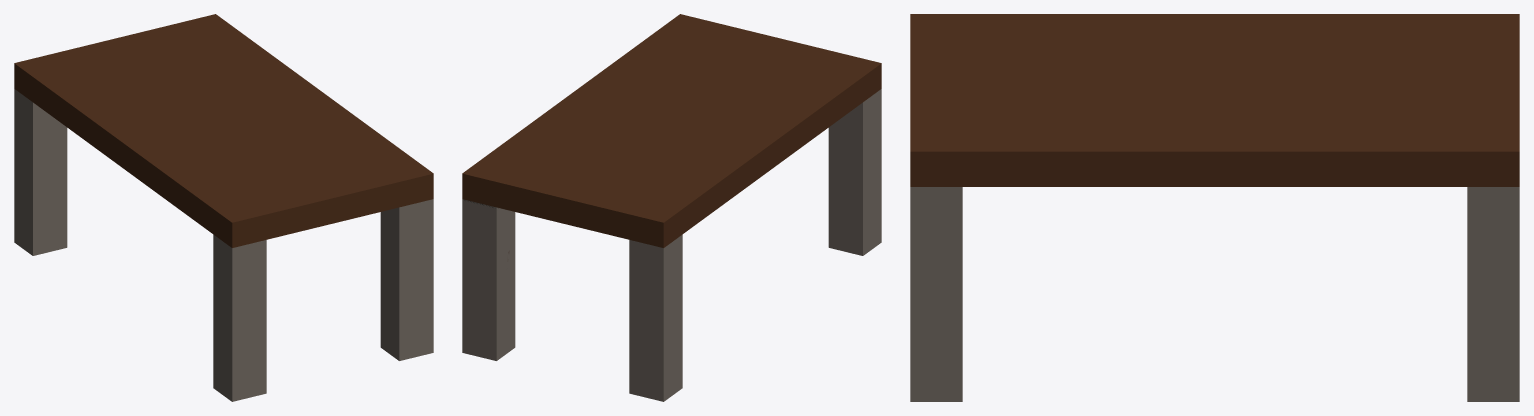
The model's file is desk.fbx.
3 views of the same model, side by side, from view 1: azimuth 30°, elevation 25°; view 2: azimuth 150°, elevation 25°; view 3: azimuth 270°, elevation 25° (orthographic). The views are drawn at different scales.
Visible parts, largest first — view 1: Cube; view 2: Cube; view 3: Cube.
Part boxes in pixels (left/top/right/bottom): Cube: left=14, top=14, right=433, bottom=401; Cube: left=462, top=14, right=881, bottom=401; Cube: left=910, top=14, right=1519, bottom=401.
Size of the model in its own units: 347 by 295 by 650.
Materials: 1 (1 with a texture image).
